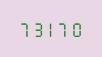one: (44, 20, 56, 37)
seven: (18, 20, 30, 37), (57, 20, 69, 37)
three: (31, 20, 43, 37)
zero: (70, 20, 82, 37)
